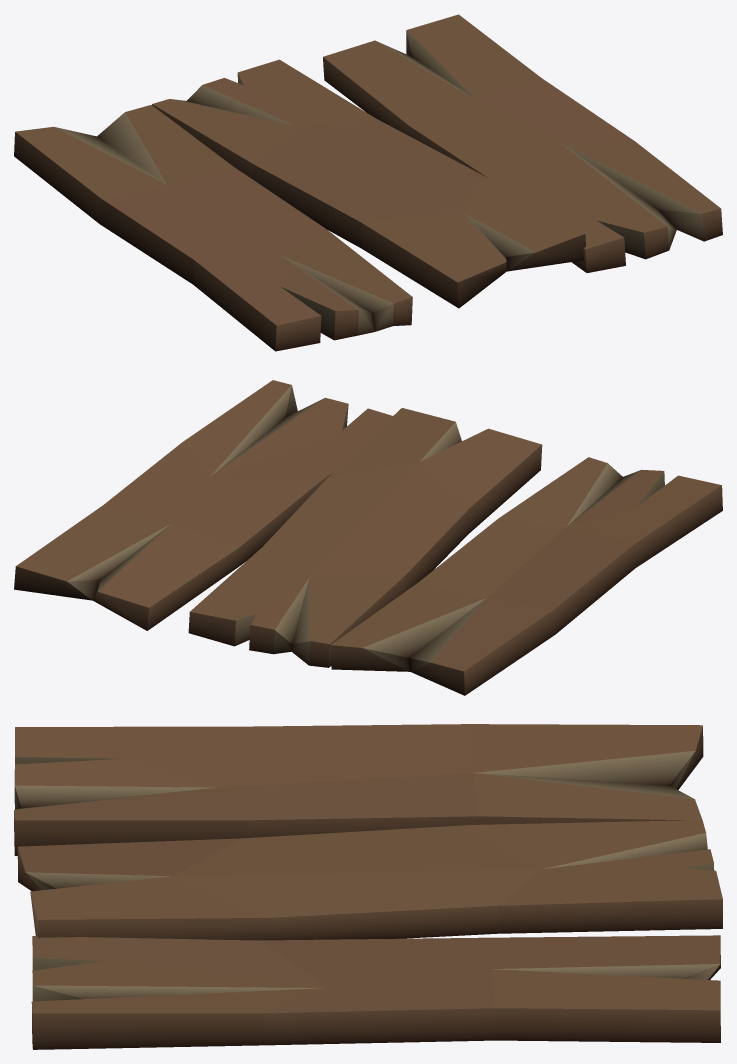
Rendered from gound3.fbx.
The picture shows the model from 3 angles, top to bottom: view 1: azimuth 30°, elevation 25°; view 2: azimuth 150°, elevation 25°; view 3: azimuth 270°, elevation 25°; orthographic projection. The views are drawn at different scales.
Visible parts, largest first — view 1: ground3; view 2: ground3; view 3: ground3.
Part boxes in pixels (box(x1,y1,x2,y2)): ground3: box(14, 14, 722, 351); ground3: box(14, 380, 722, 695); ground3: box(14, 724, 722, 1049).
Size of the model in its own units: 963 by 84.07 by 981.
